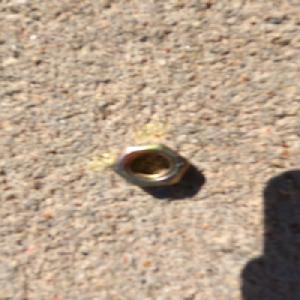Nut: (110, 142, 192, 189)
